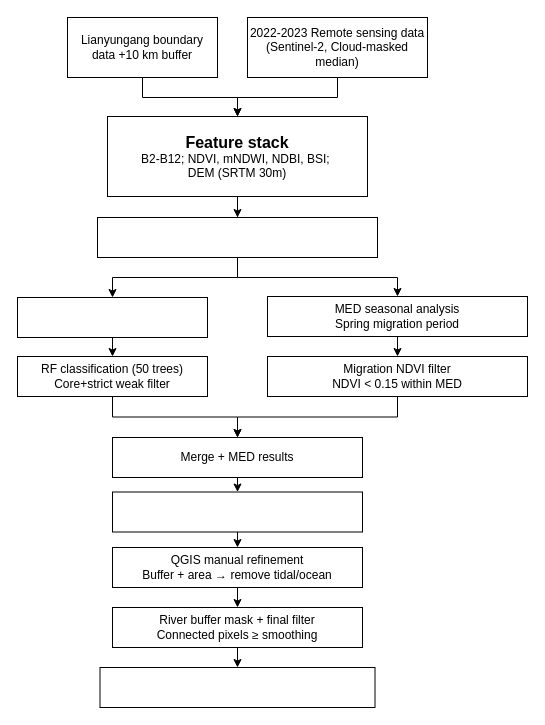
Image size: 545x725. Some labels were removed from this diagram. The centre of each missing label's shape, as x and y in pixels:
"4-class training samples neg, weak, pos_weak, pos_core" belongs at point (112, 317).
"Morphological separation Erosion → patch filter (≥ 200px) → dilation" belongs at point (237, 511).
"Physical constraint mask (DEM ≤ 10m， mNDWI ≤ 0.75，,NDVI ≤ 0.2)" belongs at point (237, 237).
"Roost proxy map (30m)" belongs at point (237, 687).
